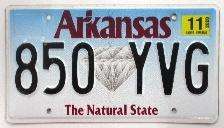0: (70, 41, 96, 96)
5: (42, 40, 67, 95)
8: (13, 40, 40, 96)
G: (184, 39, 213, 96)
V: (155, 40, 180, 98)
Y: (124, 41, 154, 96)
